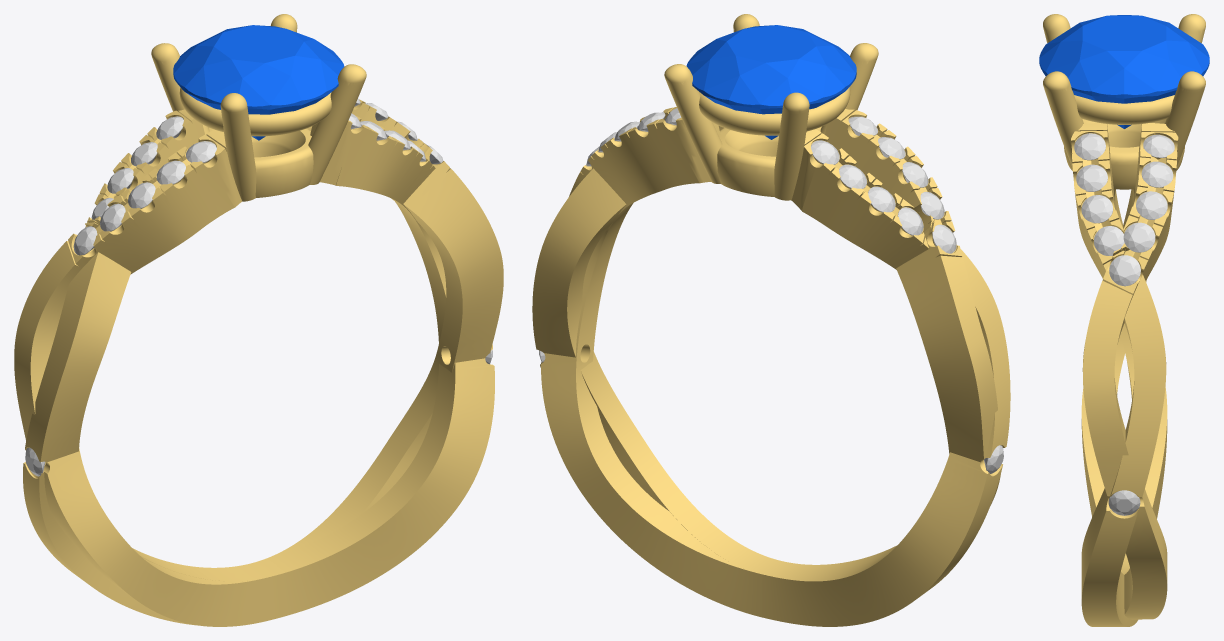
Rendered from bluesapphire-round-yellowgold-4prong-twist-sidestones.glb.
3 renders of one model, left to right at view 1: azimuth 30°, elevation 25°; view 2: azimuth 150°, elevation 25°; view 3: azimuth 270°, elevation 25°, orthographic.
Parts seen in each view (by area): view 1: metal, stone; view 2: metal, stone; view 3: metal, stone, side.015, side.016, side.017, side.012, side.011, side.013, side.014, side.018, side.010, side.019.
Boxes of the visible parts, left/top/right/bottom form: metal: left=14, top=14, right=503, bottom=626; stone: left=173, top=25, right=344, bottom=140; metal: left=532, top=14, right=1010, bottom=626; stone: left=686, top=25, right=856, bottom=139; metal: left=1043, top=14, right=1205, bottom=626; stone: left=1039, top=15, right=1209, bottom=128; side.015: left=1109, top=255, right=1140, bottom=286; side.016: left=1123, top=222, right=1155, bottom=252; side.017: left=1136, top=191, right=1167, bottom=219; side.012: left=1081, top=195, right=1113, bottom=223; side.011: left=1094, top=226, right=1124, bottom=255; side.013: left=1076, top=164, right=1107, bottom=191; side.014: left=1074, top=133, right=1105, bottom=160; side.018: left=1141, top=161, right=1173, bottom=187; side.010: left=1108, top=490, right=1140, bottom=515; side.019: left=1143, top=134, right=1174, bottom=157.
Bounding box in the file's own units: 19.97 × 23.61 × 6.44.
